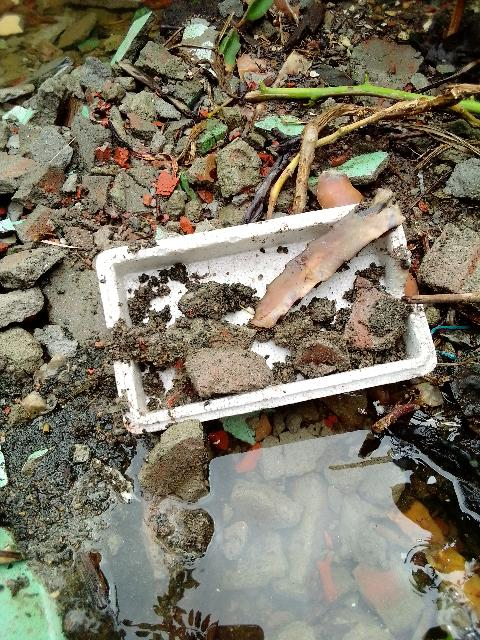cocksheet: (96, 204, 378, 329)
